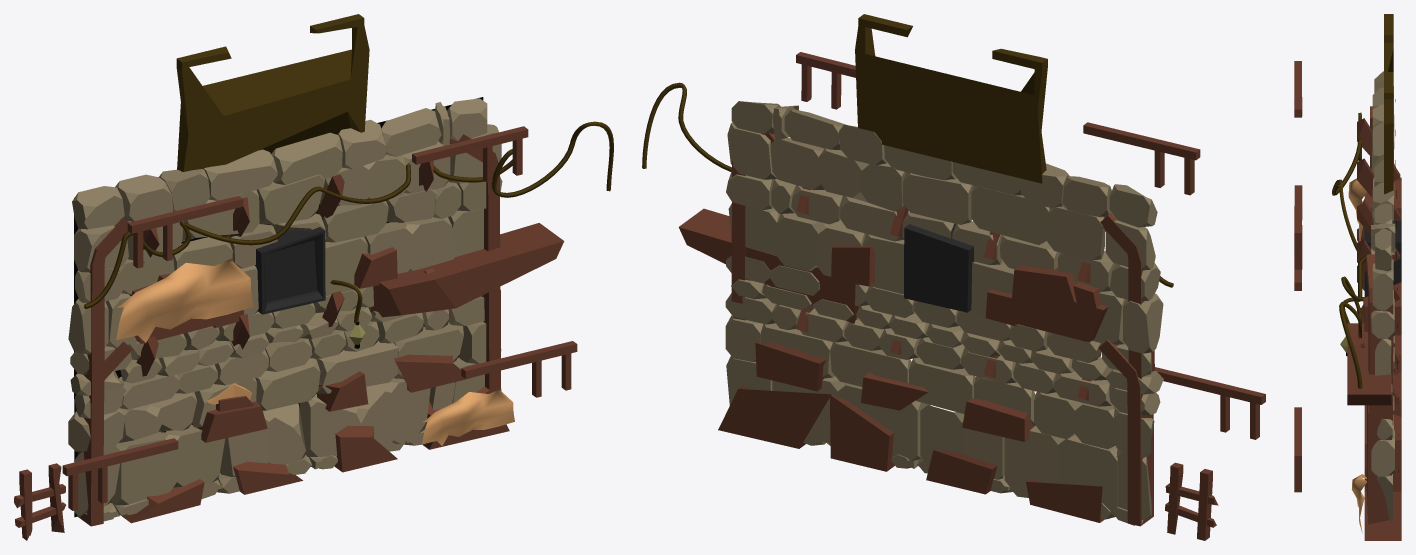
File: Saloon.fbx
3 renders of one model, left to right at view 1: azimuth 30°, elevation 25°; view 2: azimuth 150°, elevation 25°; view 3: azimuth 270°, elevation 25°, orthographic. The views are drawn at different scales.
Parts seen in each view (by area): view 1: Cube.066, BezierCurve.001; view 2: Cube.066, BezierCurve.001; view 3: Cube.066, BezierCurve.001.
Boxes of the visible parts, left/top/right/bottom form: Cube.066: left=14, top=14, right=577, bottom=540; BezierCurve.001: left=84, top=121, right=613, bottom=323; Cube.066: left=678, top=14, right=1265, bottom=540; BezierCurve.001: left=642, top=82, right=1173, bottom=287; Cube.066: left=1294, top=14, right=1401, bottom=540; BezierCurve.001: left=1332, top=112, right=1371, bottom=388.
Size of the model in its own units: 132 by 94.99 by 23.73.
